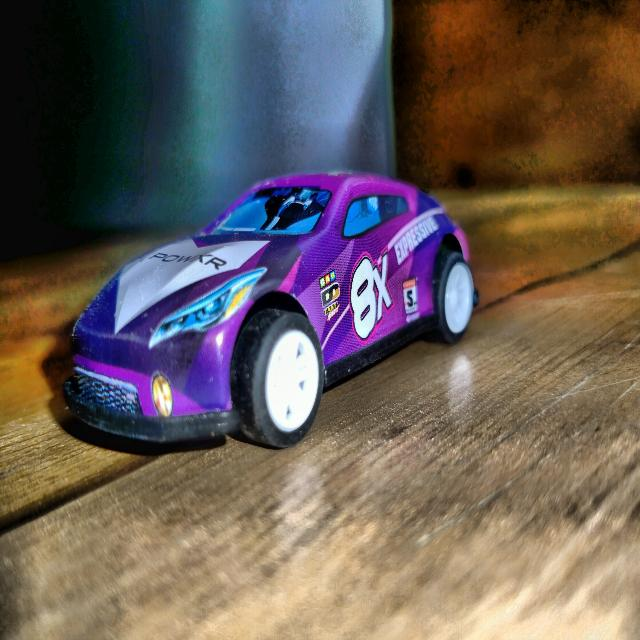Car: (64, 174, 477, 448)
